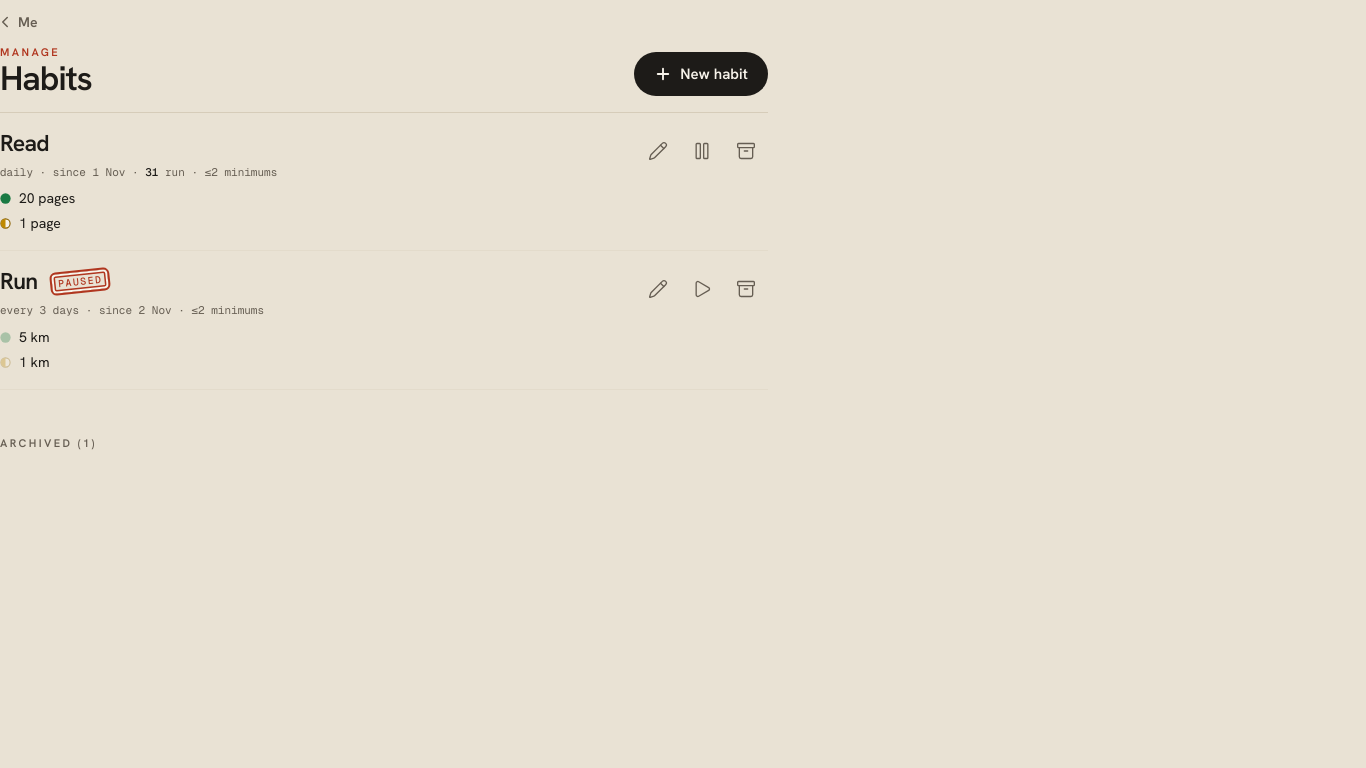
Scenario: HabitsPage › only asks for an interval for every-N-days habits
Step 1. Click the button "New habit" → {"x": 701, "y": 74}, box [634,52,768,96]
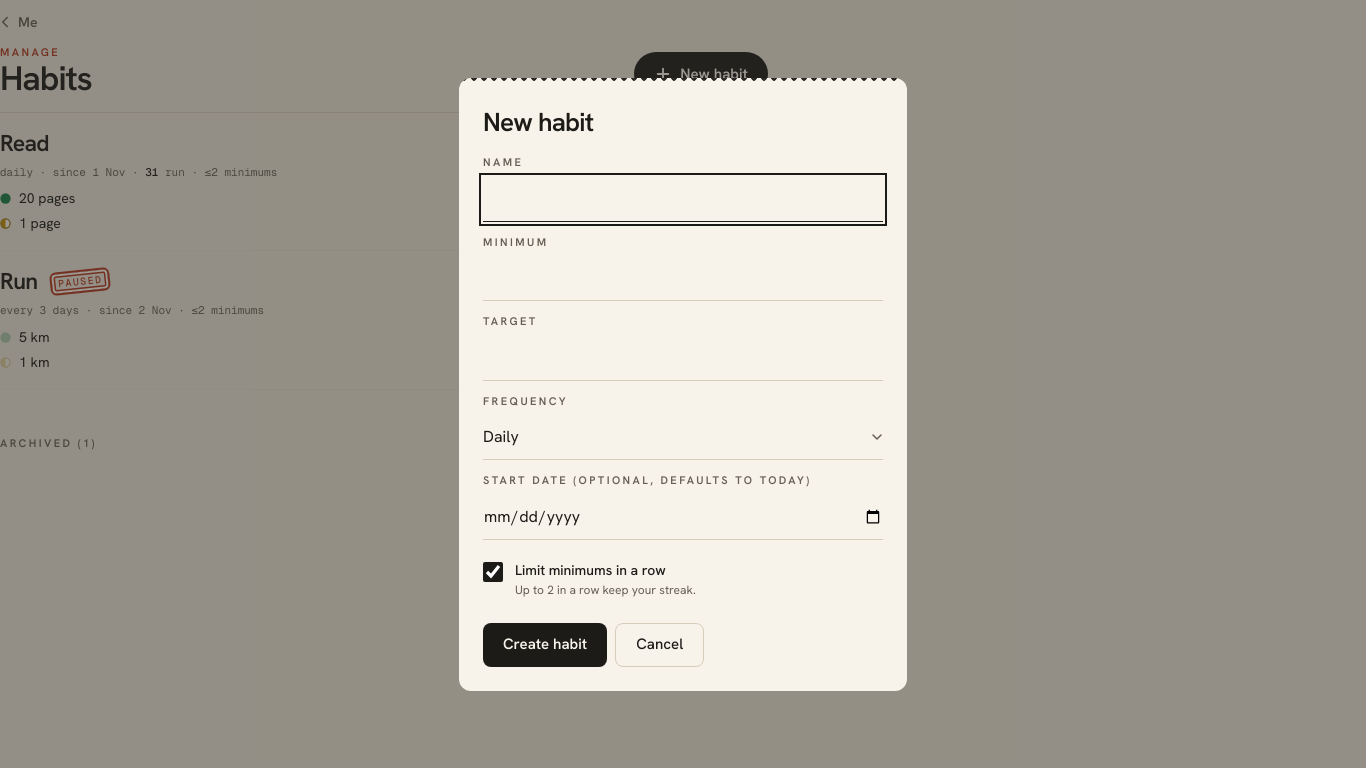
Expected: the field labelled "Every how many days?" is not shown
Step 2. Select "Every N days" in the dropdown labelled "Frequency" → {"x": 683, "y": 438}, box [483,415,883,460]
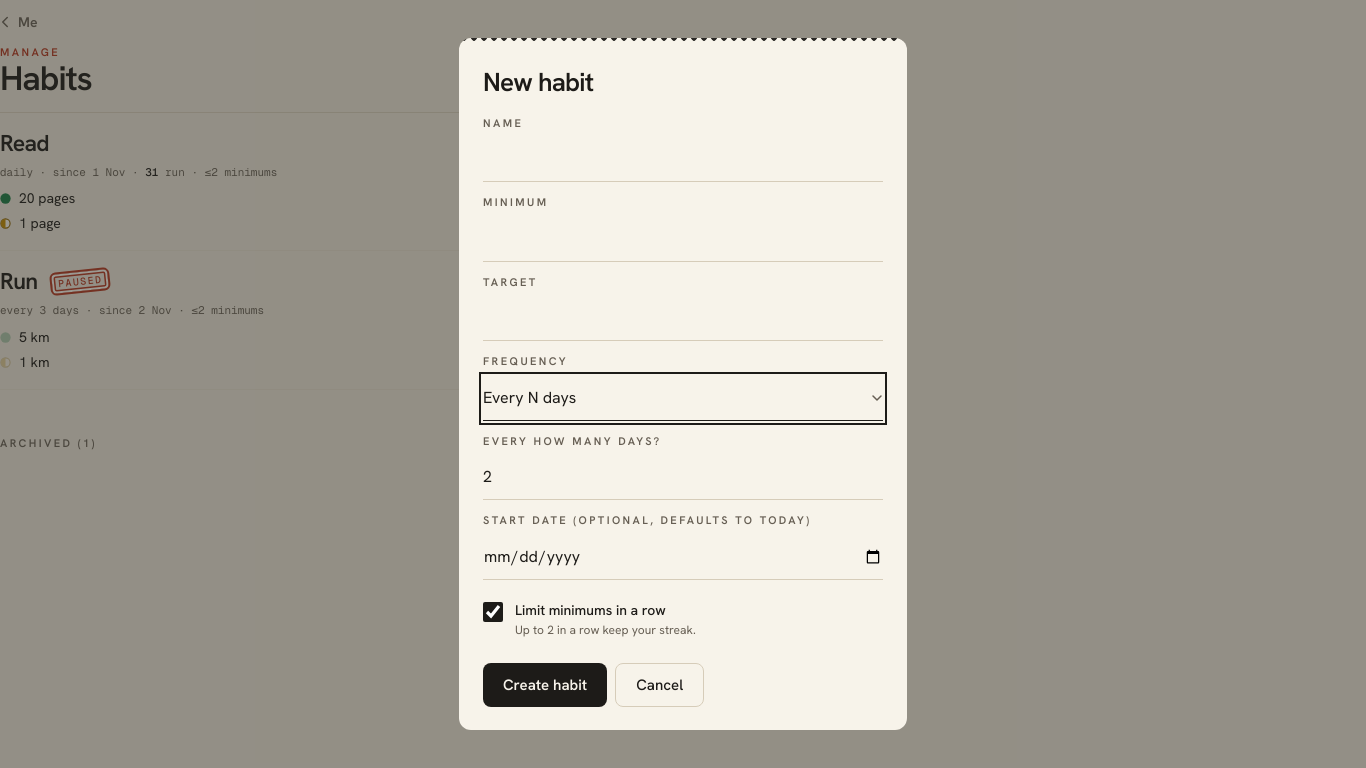
Expected: the number field labelled "Every how many days?" is shown, [483,455,883,500]
